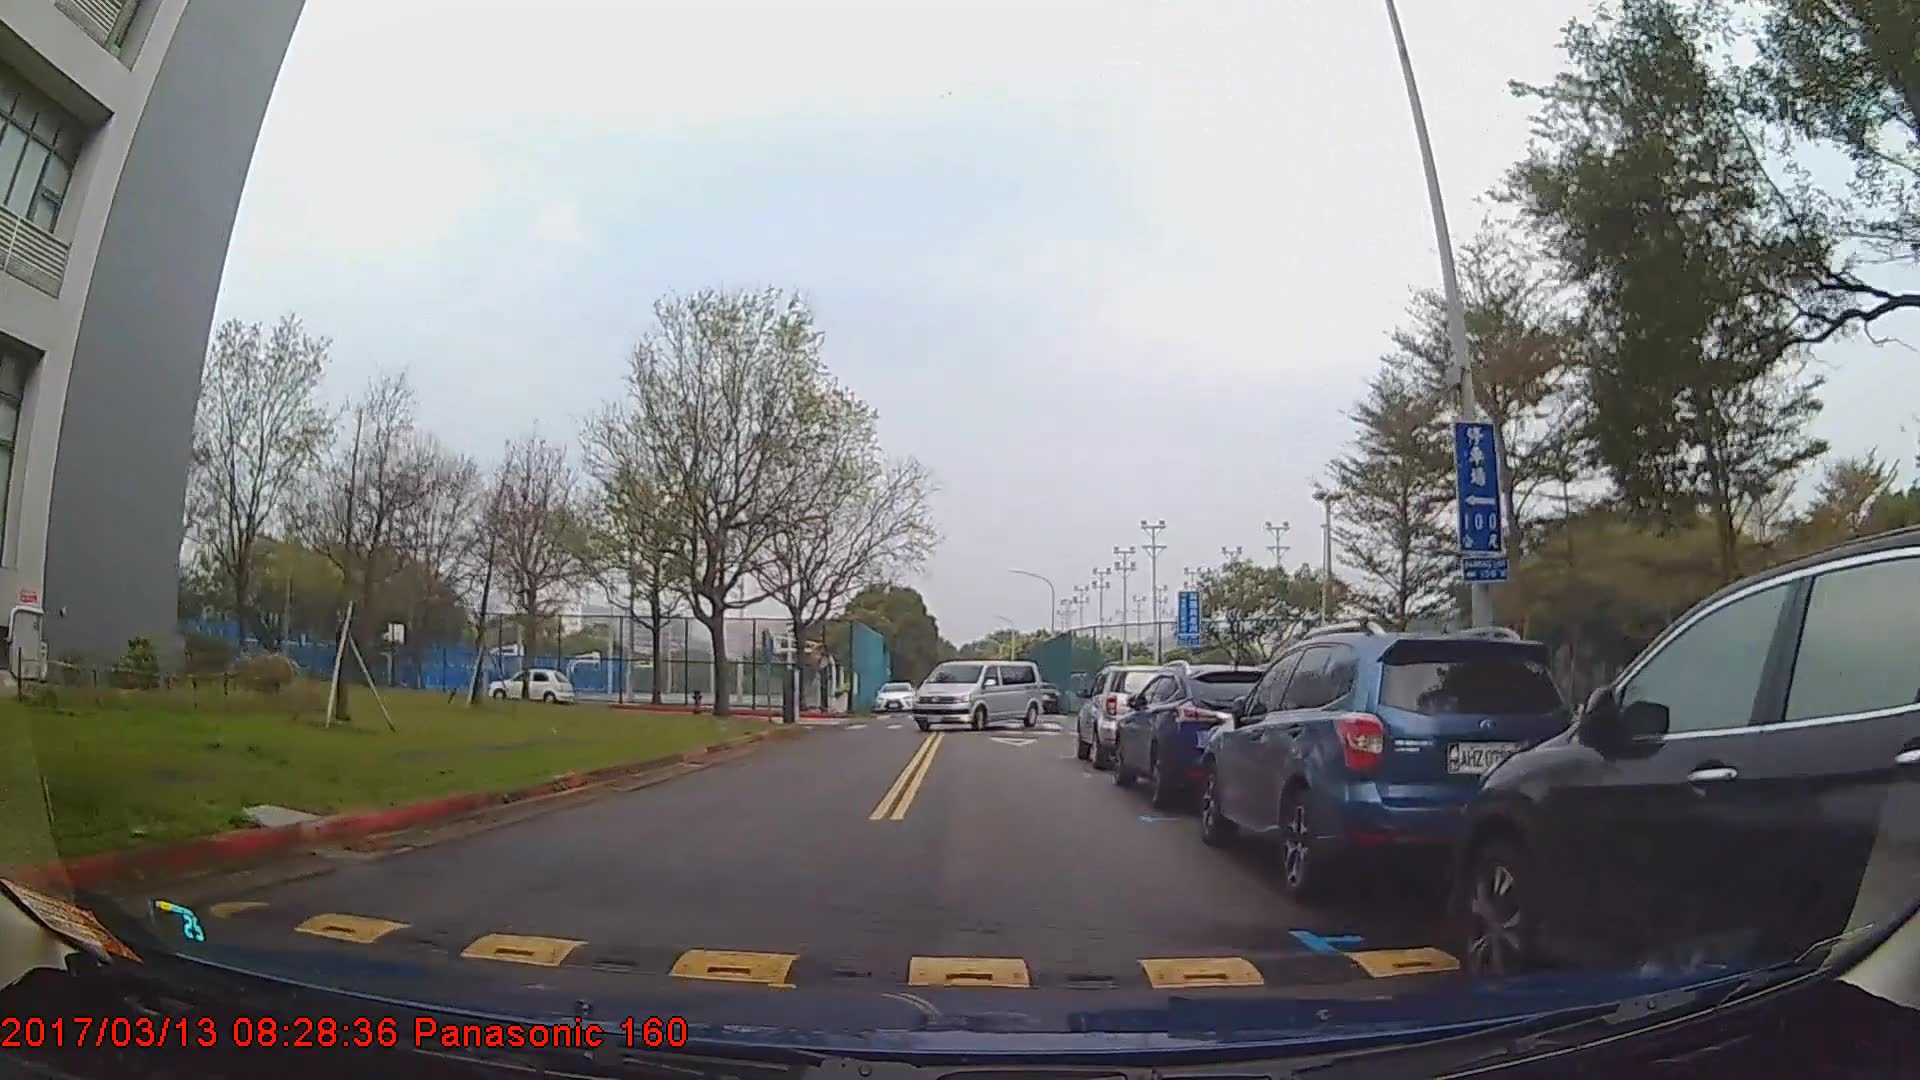vehicle: (1448, 524, 1920, 1010), (1193, 632, 1582, 895), (1112, 661, 1288, 807), (1075, 661, 1180, 766), (907, 658, 1040, 732), (489, 663, 574, 705), (873, 680, 914, 713)
